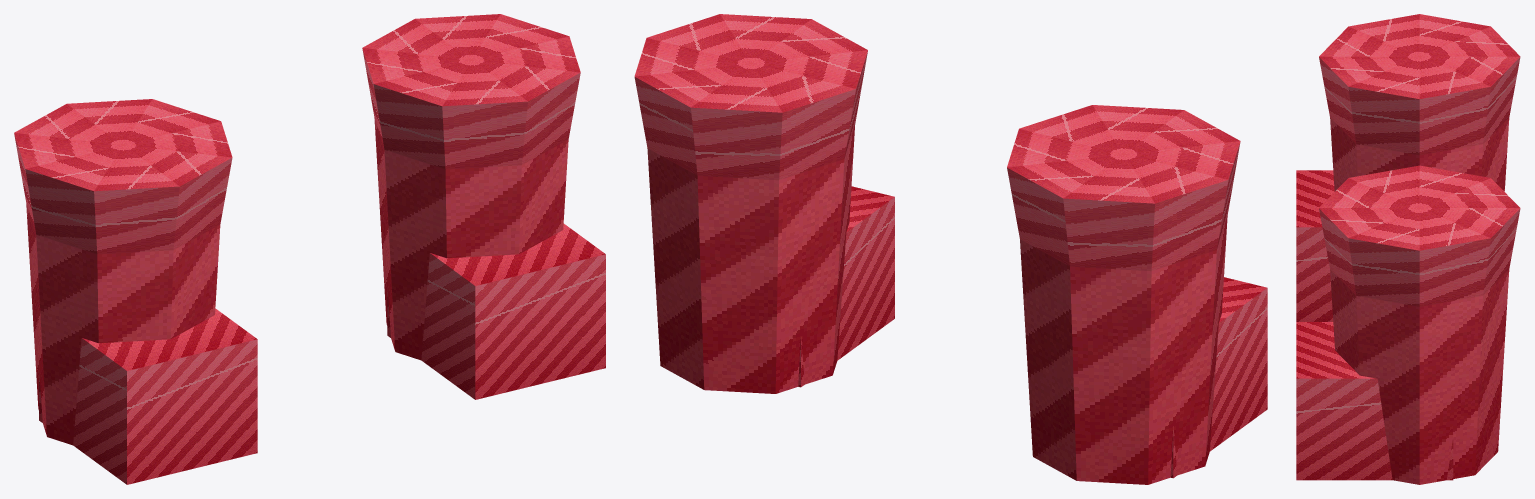
The model's file is luvas_de_rubi.glb.
3 renders of one model, left to right at view 1: azimuth 30°, elevation 25°; view 2: azimuth 150°, elevation 25°; view 3: azimuth 270°, elevation 25°, orthographic. The views are drawn at different scales.
Visible parts, largest first — view 1: luvas_de_rubi; view 2: luvas_de_rubi; view 3: luvas_de_rubi.
Boxes of the visible parts, x1,y1,x2,y2 form: luvas_de_rubi: (14, 14, 605, 484); luvas_de_rubi: (634, 14, 1267, 484); luvas_de_rubi: (1296, 14, 1520, 484).
Size of the model in its own units: 0.5 by 0.24 by 0.2.
Materials: 1 (1 with a texture image).
